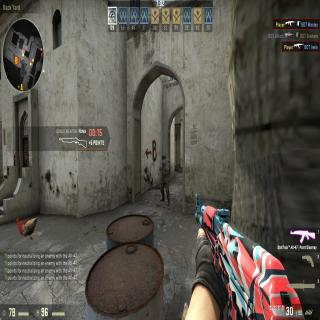CT-Body: (159, 153, 170, 206)
CT-Head: (161, 154, 166, 164)
